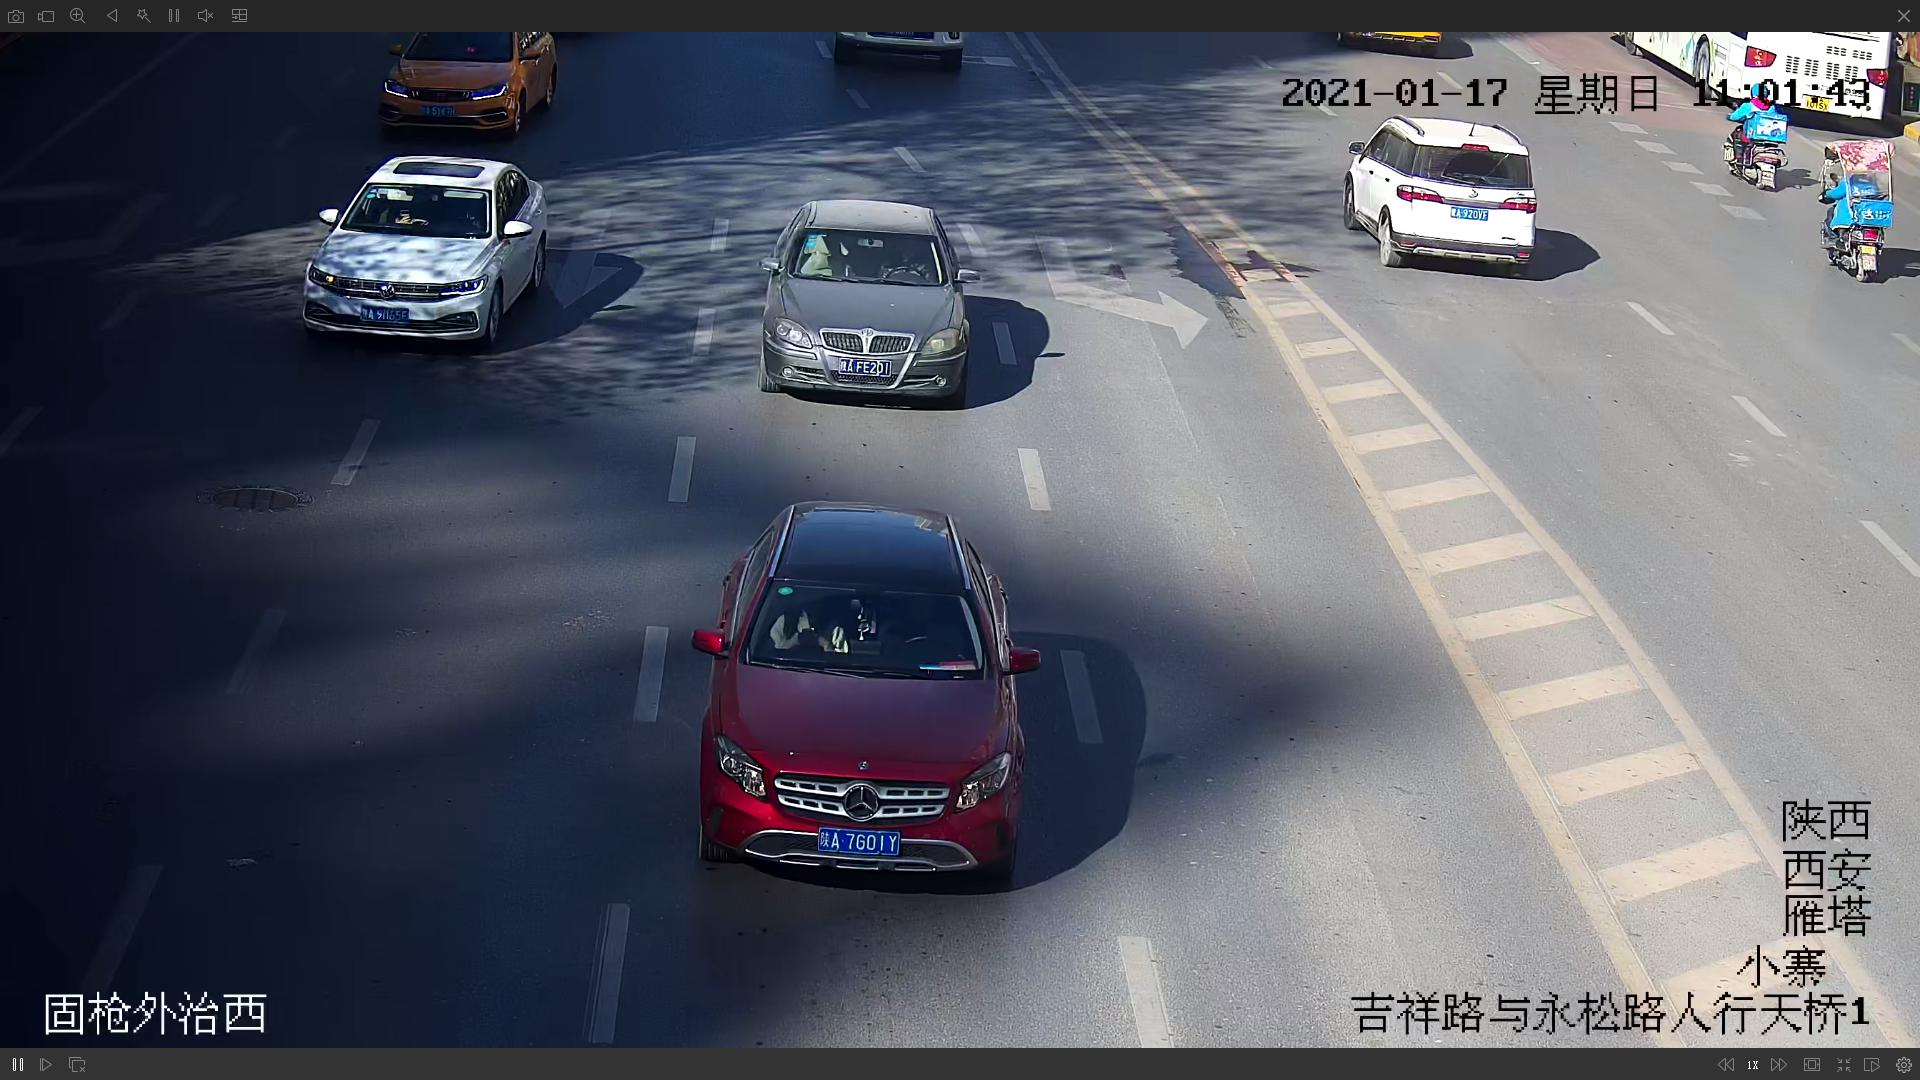black: (754, 199, 978, 404)
dark-red: (688, 506, 1042, 891)
white: (301, 152, 545, 352)
